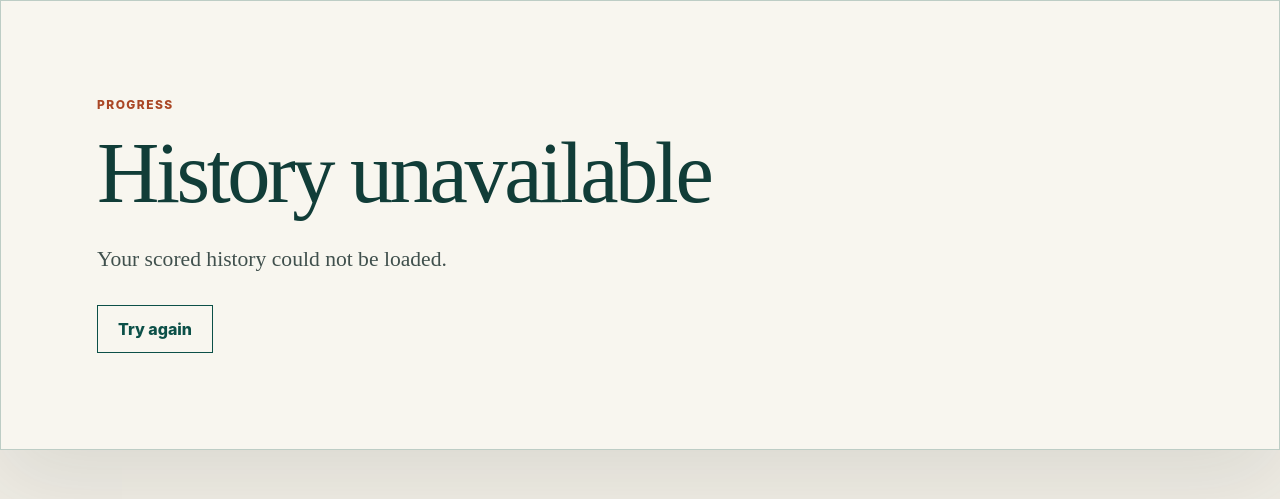
Test case: ProgressPage › shows error state with retry
Expected: the heading "History unavailable" is shown, [97,125,710,221]
Click the button "Try again" at (155, 329), box [97,305,213,353]
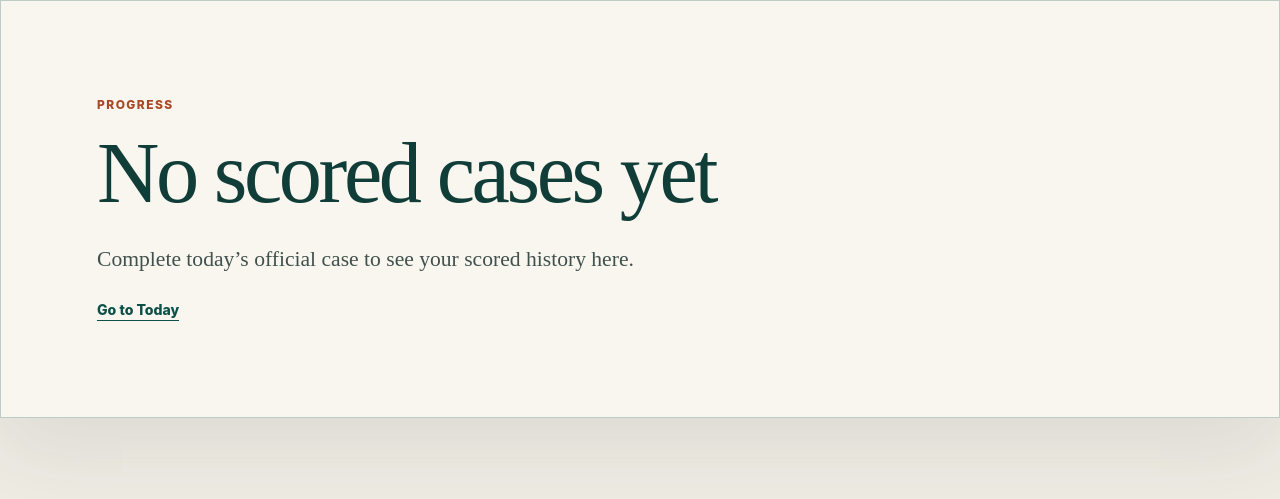
Expected: the heading "No scored cases yet" is shown, [97,125,715,221]
